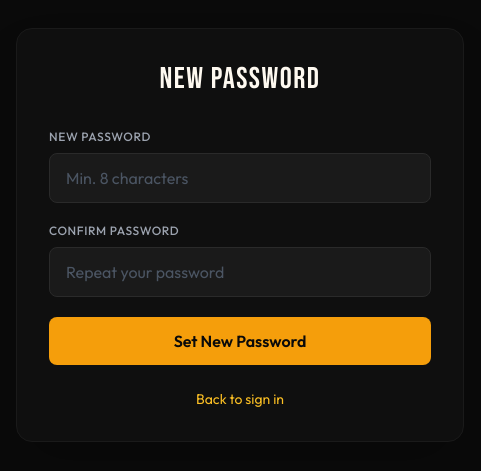
it: ResetPasswordPage › clears the mismatch error live as the confirm value is corrected
This screenshot has width=481, height=471.
In the password field labelled "New Password": (240, 178) [49,153,431,203], type "matching-pass"
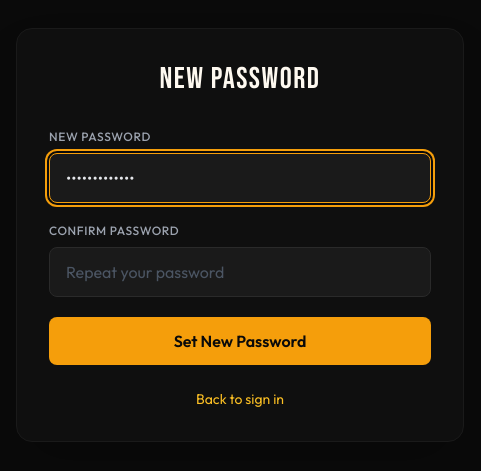
In the password field labelled "Confirm Password": (240, 272) [49,247,431,297], type "matching-"
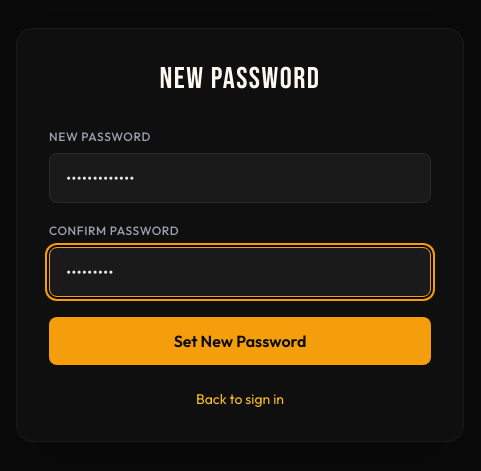
Press Tab
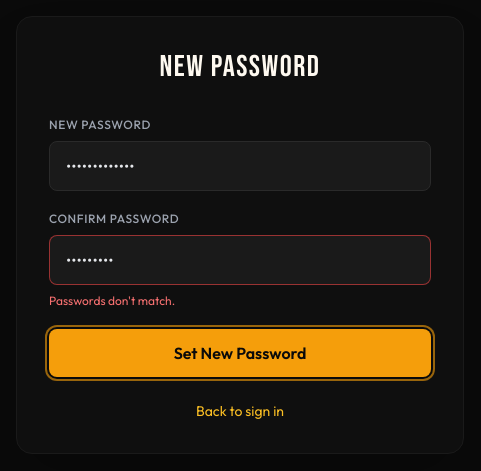
Expected: the text "Passwords don't match." is shown, [49,293,175,308]
In the password field labelled "Confirm Password": (240, 260) [49,235,431,285], type "pass"
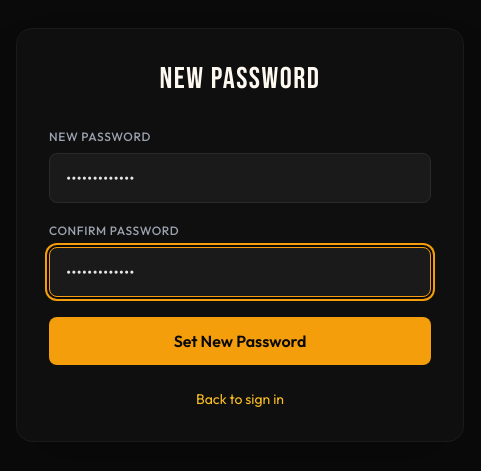
Expected: the text "Passwords don't match." is gone
